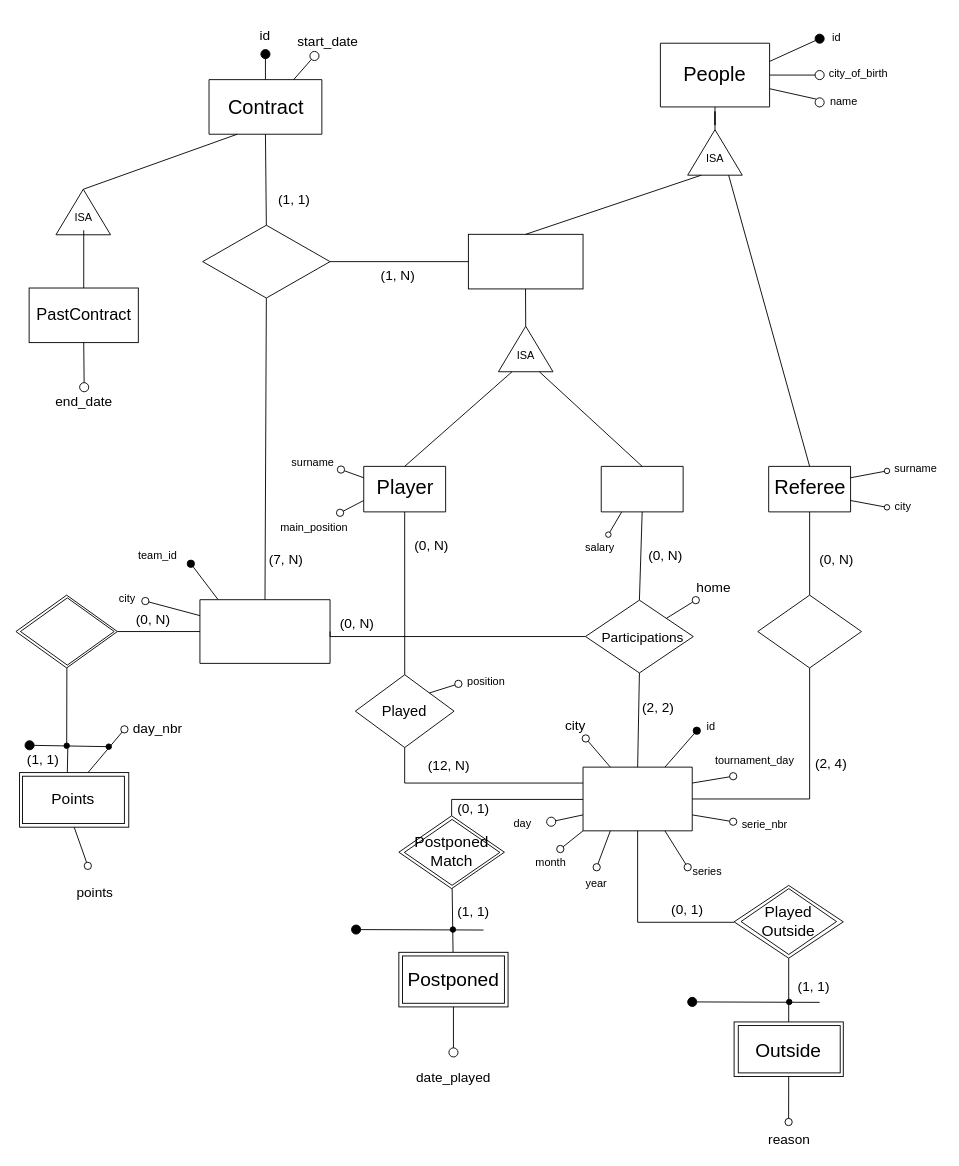
This 959x1166 diagram has some shape labels left out. Each missing label, with the centre of its shape:
Coach: [641,488]
Contractors: [266,261]
Match: [637,798]
Rankings: [67,631]
Refereeing: [809,631]
Team: [264,631]
TeamMember: [525,261]
